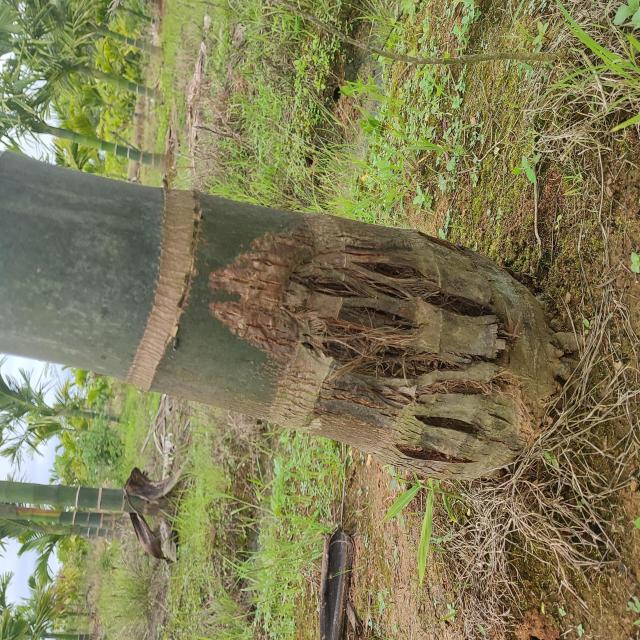Stem_Cracking: (164, 125, 596, 552)
